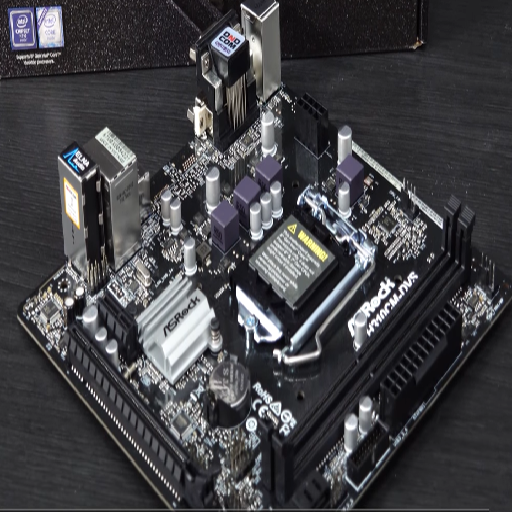CPU: (230, 182, 372, 345)
GPU: (57, 308, 213, 507)
MOTHERBOARD: (5, 5, 507, 512)
RAM: (257, 196, 477, 512)
